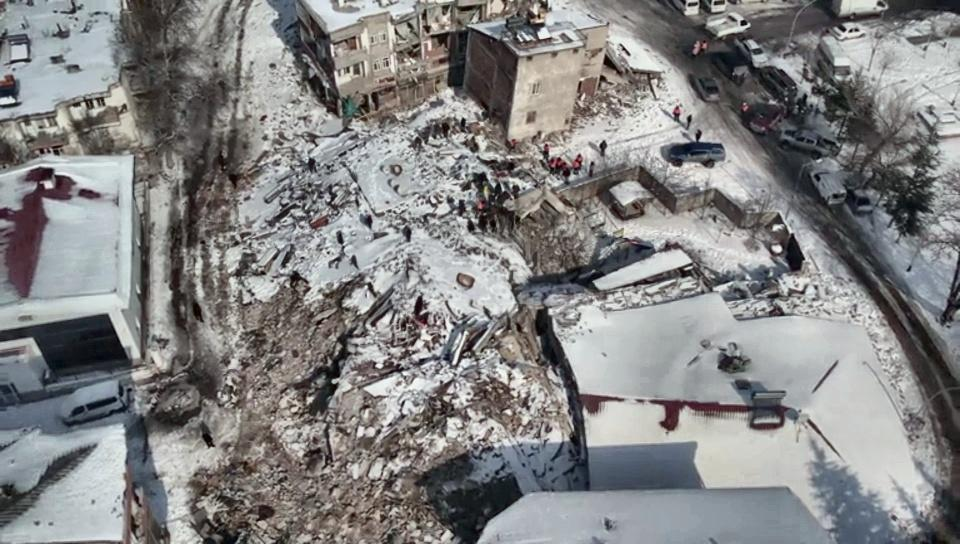kapali: (172, 153, 304, 543)
